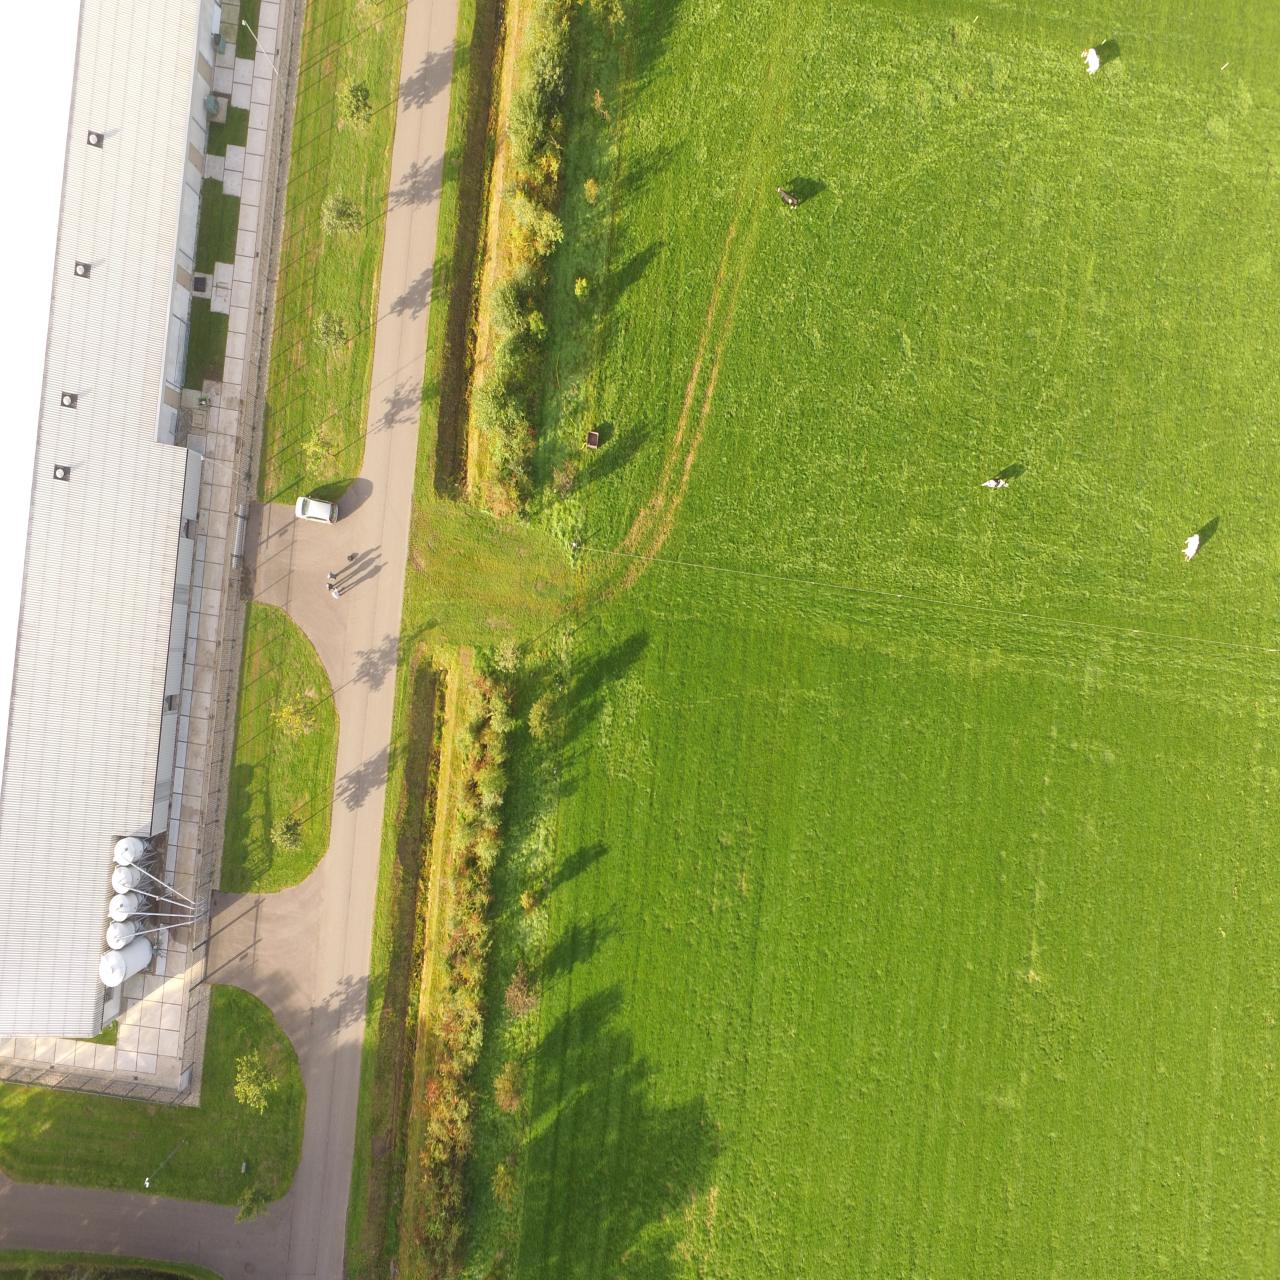cow: (95, 830, 159, 994), (980, 467, 1015, 504), (778, 178, 802, 222), (1084, 35, 1103, 89), (1182, 524, 1206, 564)
